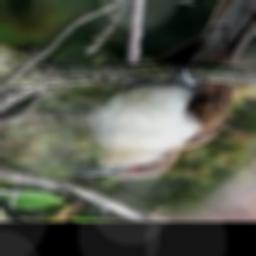Cuckoo: (74, 0, 256, 177)
